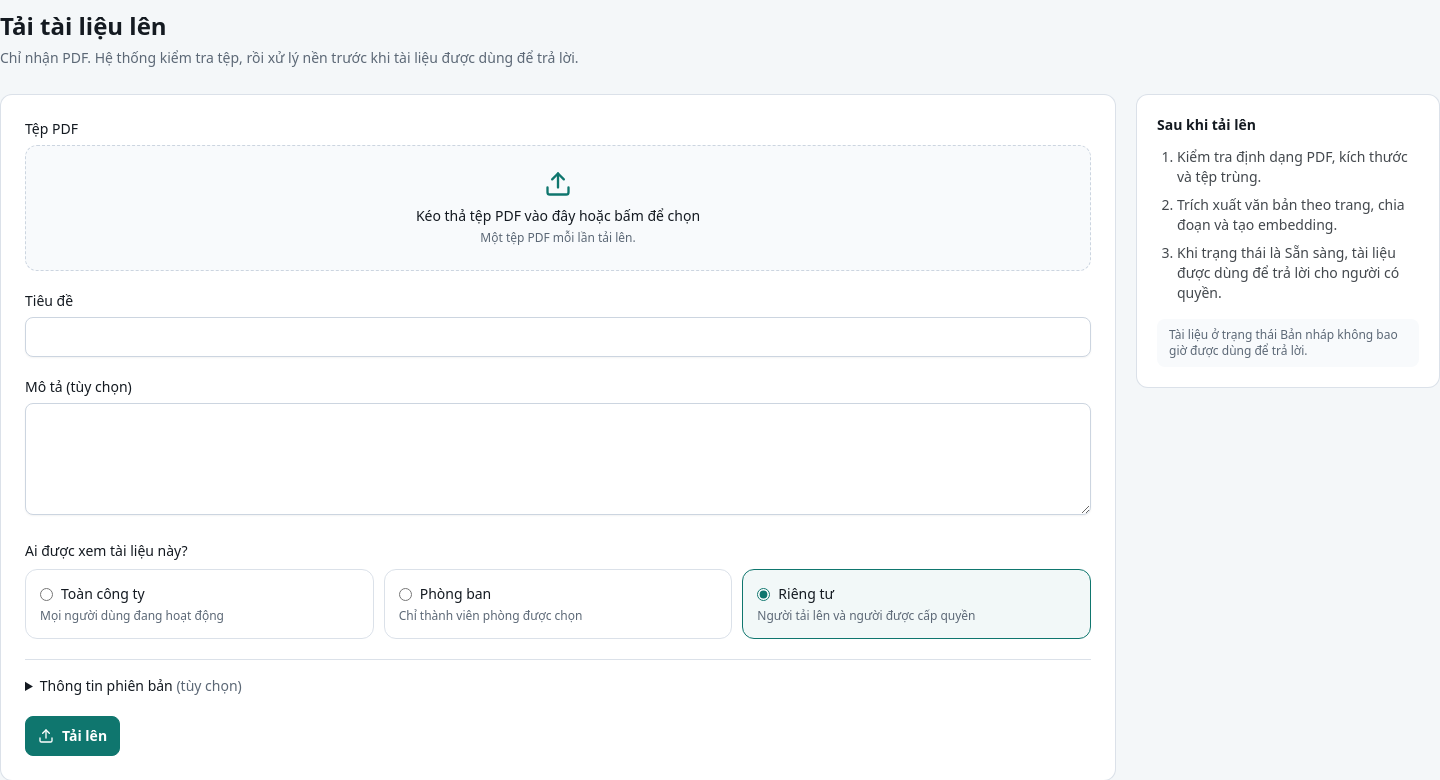
Scenario: DocumentUploadPage › shows a retry state when departments cannot load
Click the radio button labelled "Phòng ban Chỉ thành viên phòng được chọn": coordinates (405, 594) x1=399 y1=588 x2=412 y2=600
(page scrolled)
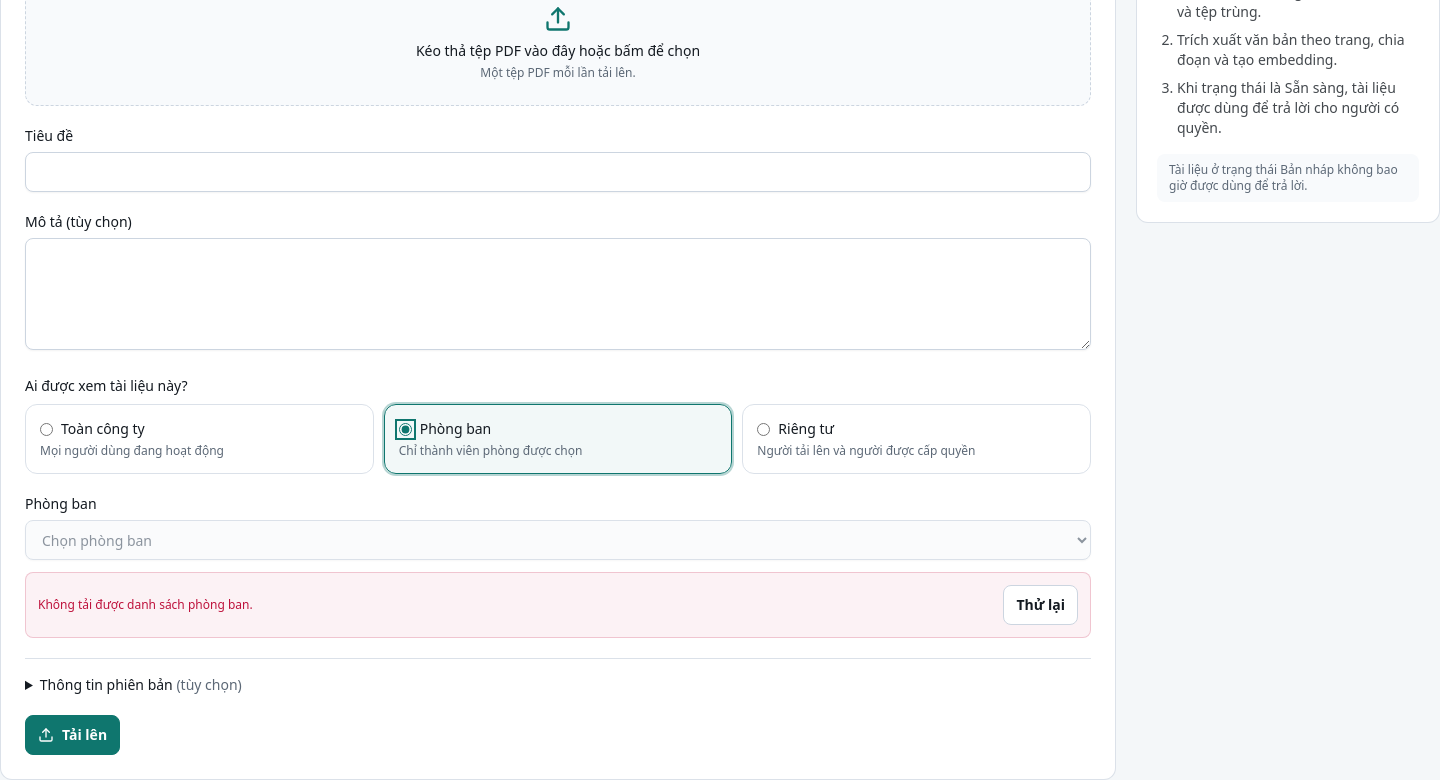
Now the message shows "Không tải được danh sách phòng ban.", box x1=38 y1=596 x2=253 y2=613
Now the button "Thử lại" is shown, box x1=1003 y1=585 x2=1078 y2=625
